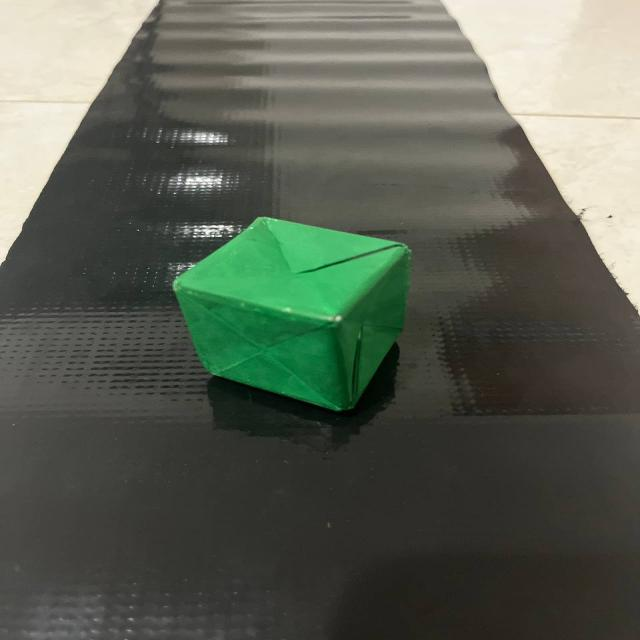Verde: (160, 206, 438, 422)
